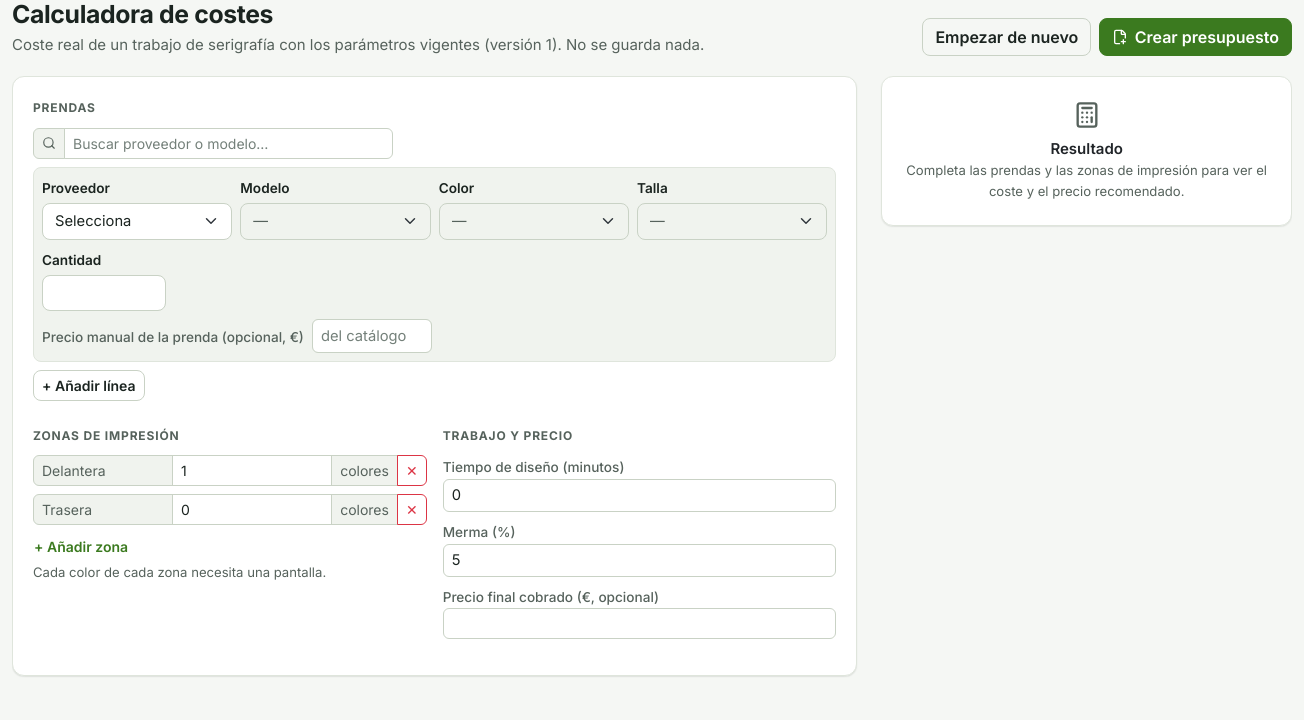
Scenario: calculadora de costes de serigrafía › avisa de datos incompletos y no muestra resultado
The width and height of the screenshot is (1304, 720).
Type "5" into the number field labelled "Cantidad" at point(104, 293), box [42, 275, 166, 312]
(page scrolled)
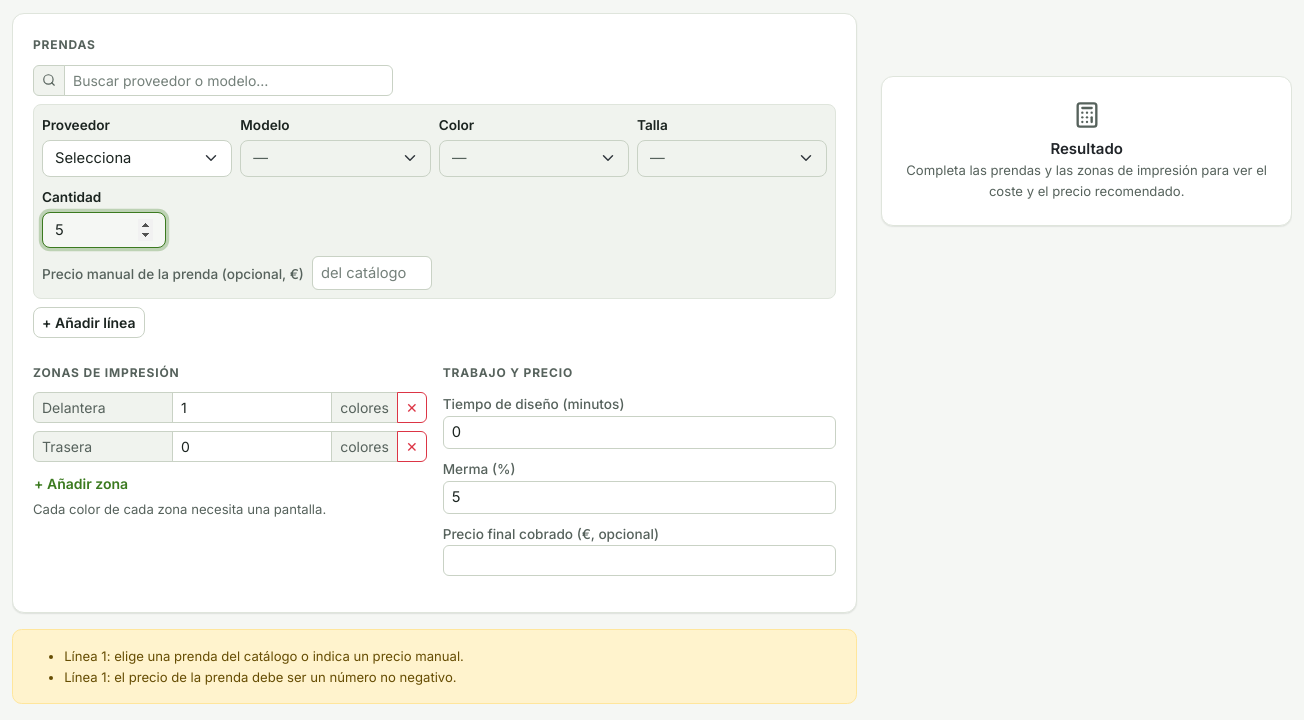
Check: the message shows "elige una prenda del catálogo o indica un precio manual", box [64, 648, 464, 664]
